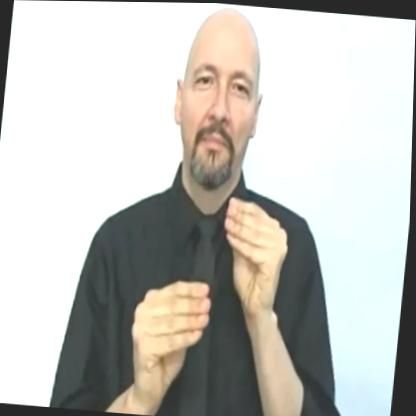Fix: (128, 172, 298, 395)
